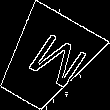M_SW: (11, 26, 82, 93)
